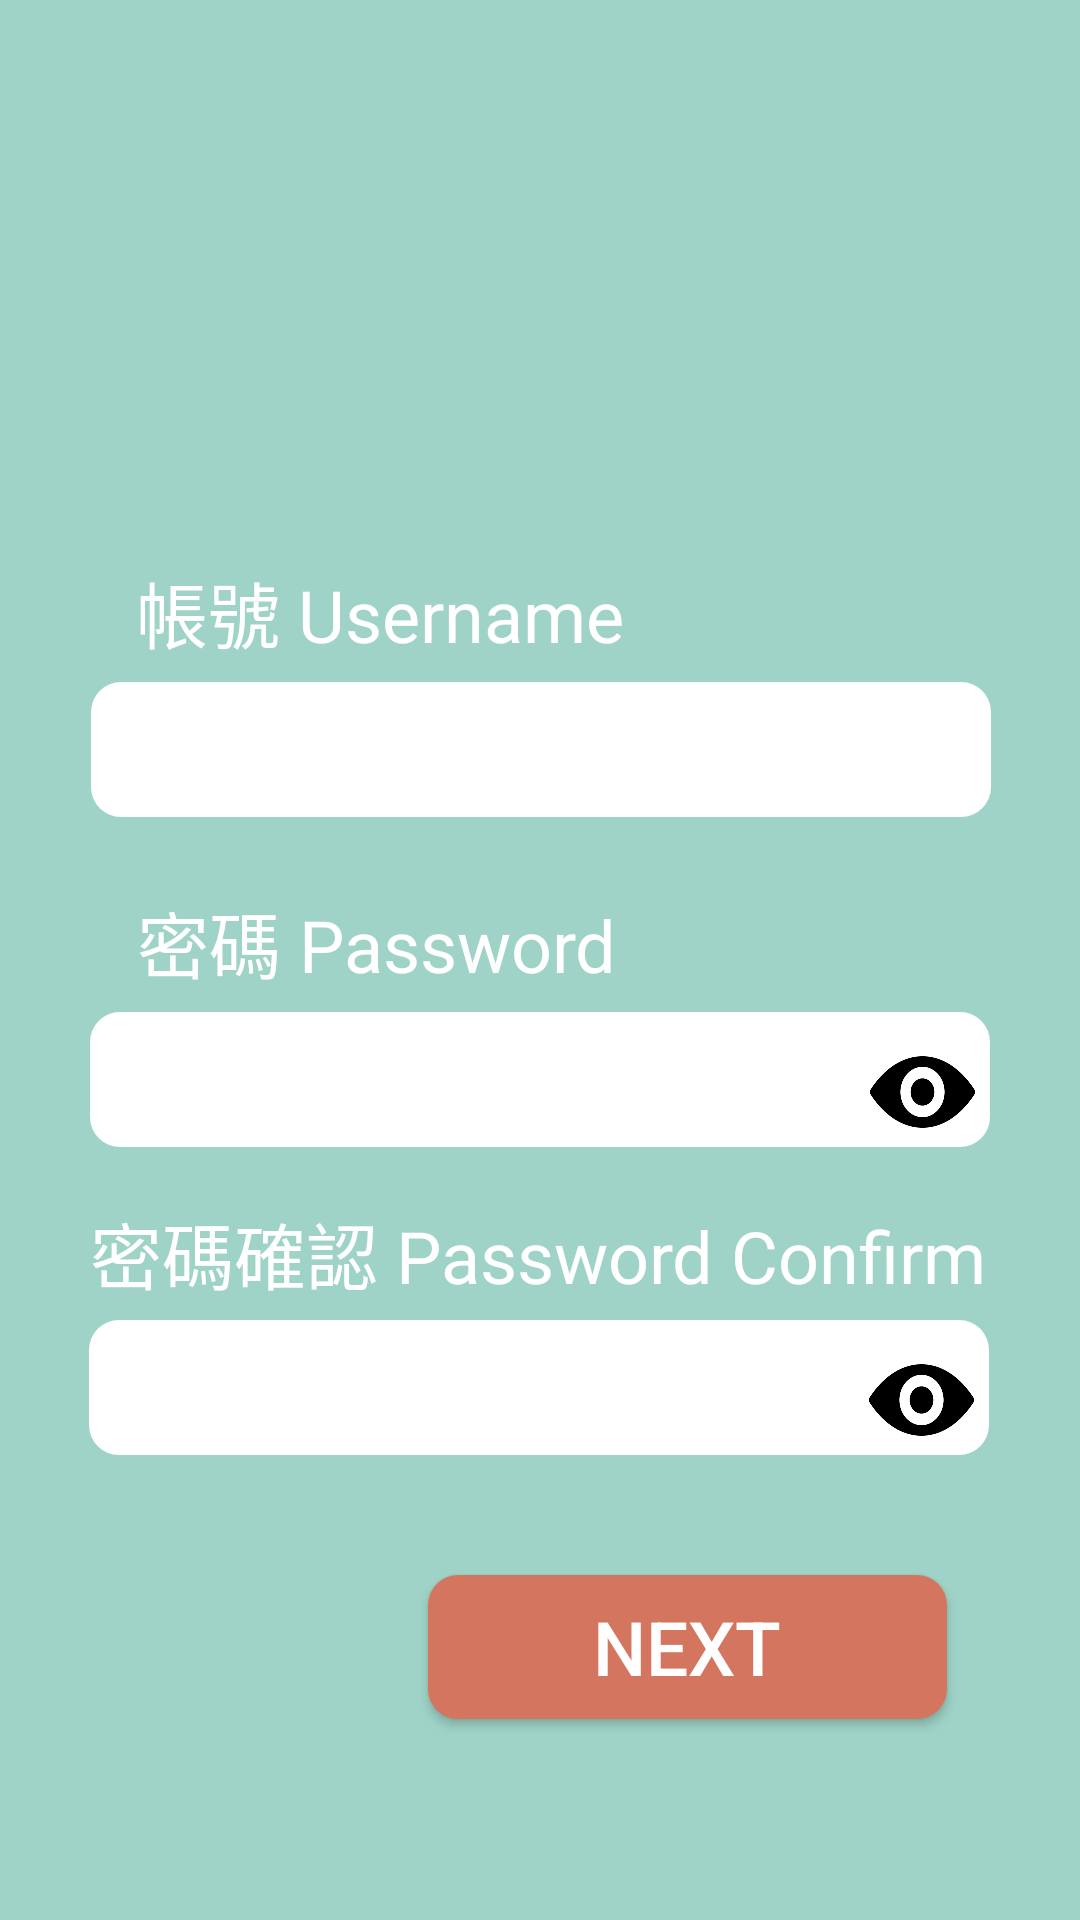

Named icons in this screenshot (1080 × 1920) and their centers, point (x, y):
eye: point (922, 1092), point (921, 1400)
